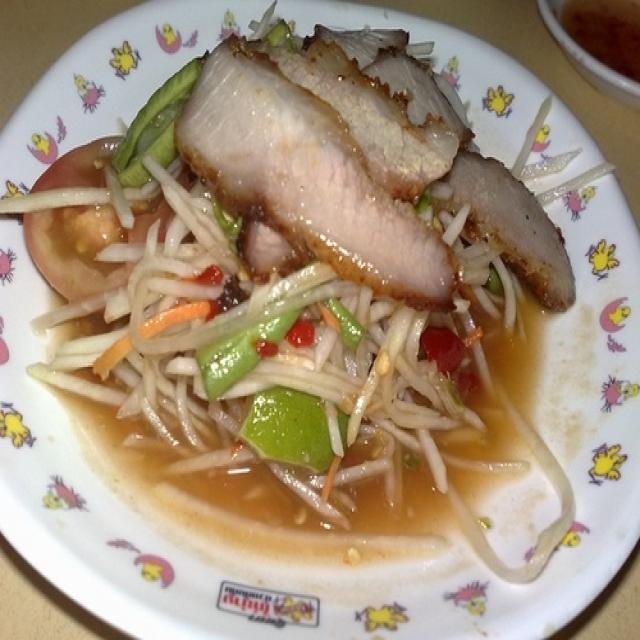猪肉菜式: (27, 17, 599, 591)
